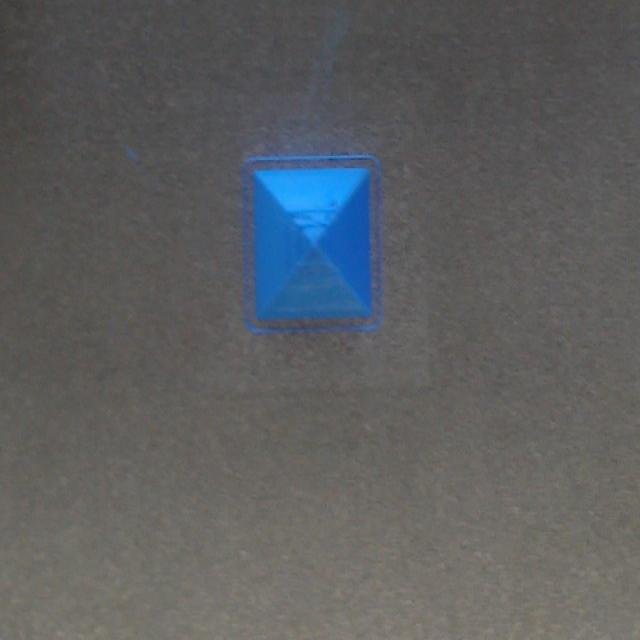mistake: (288, 203, 340, 247)
